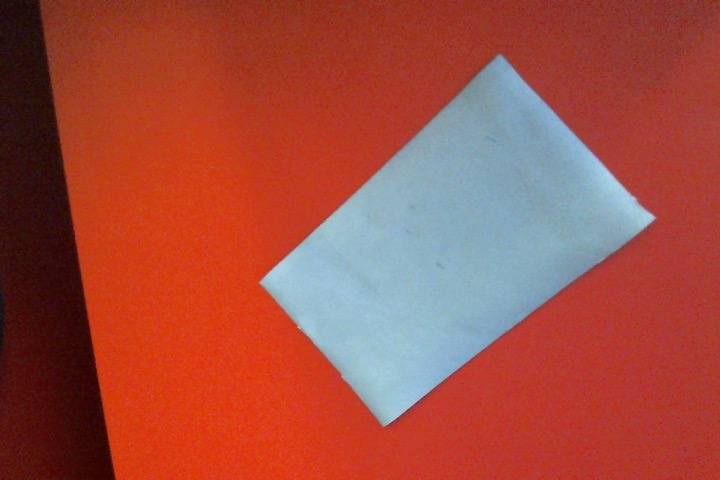Tape: (259, 53, 660, 428)
